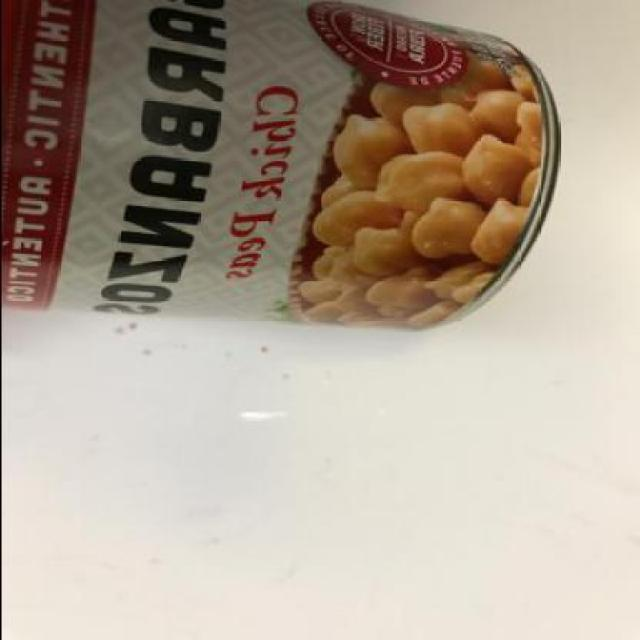METAL: (2, 1, 560, 333)
